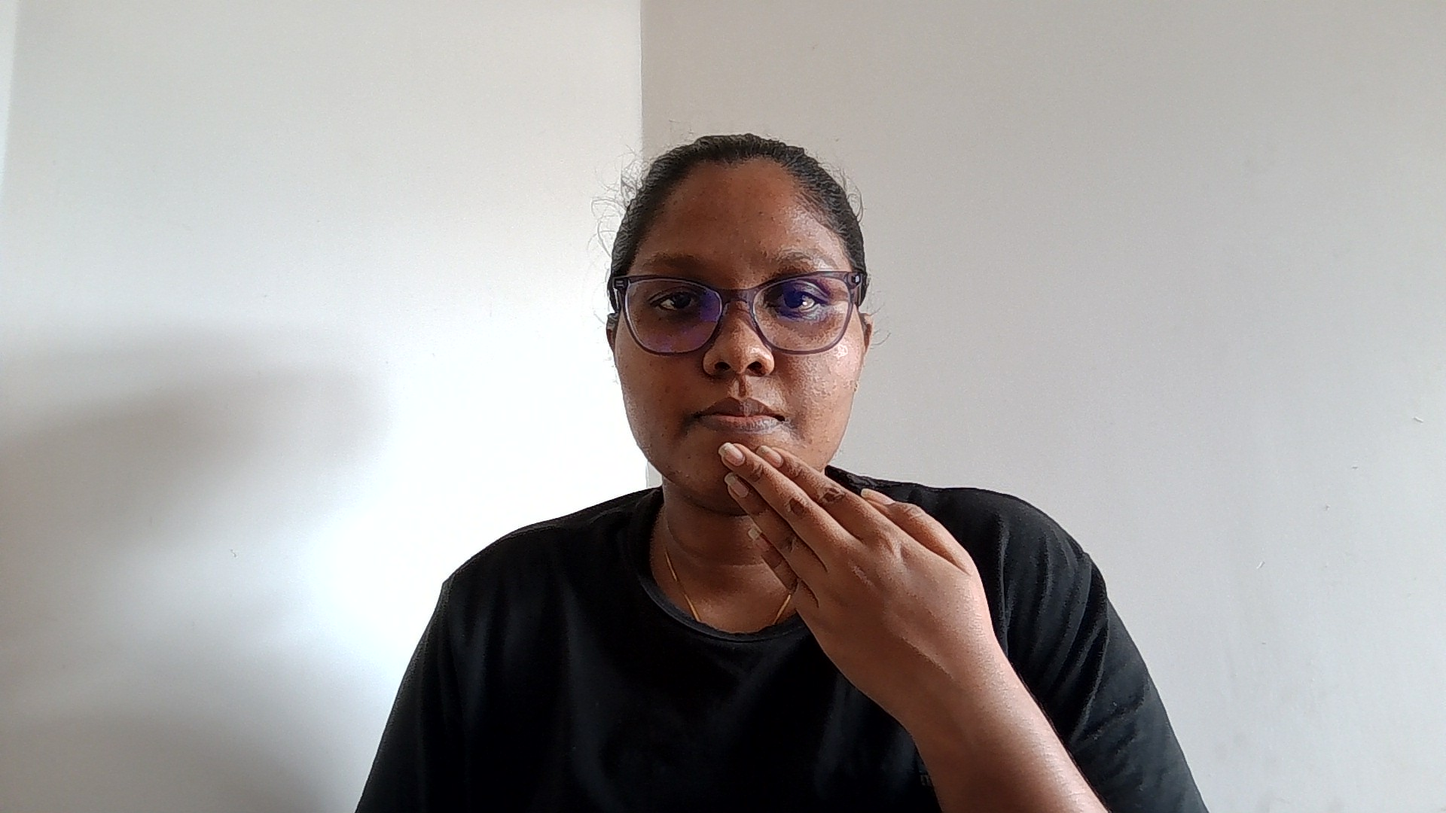Thank You: (610, 412, 1127, 745)
